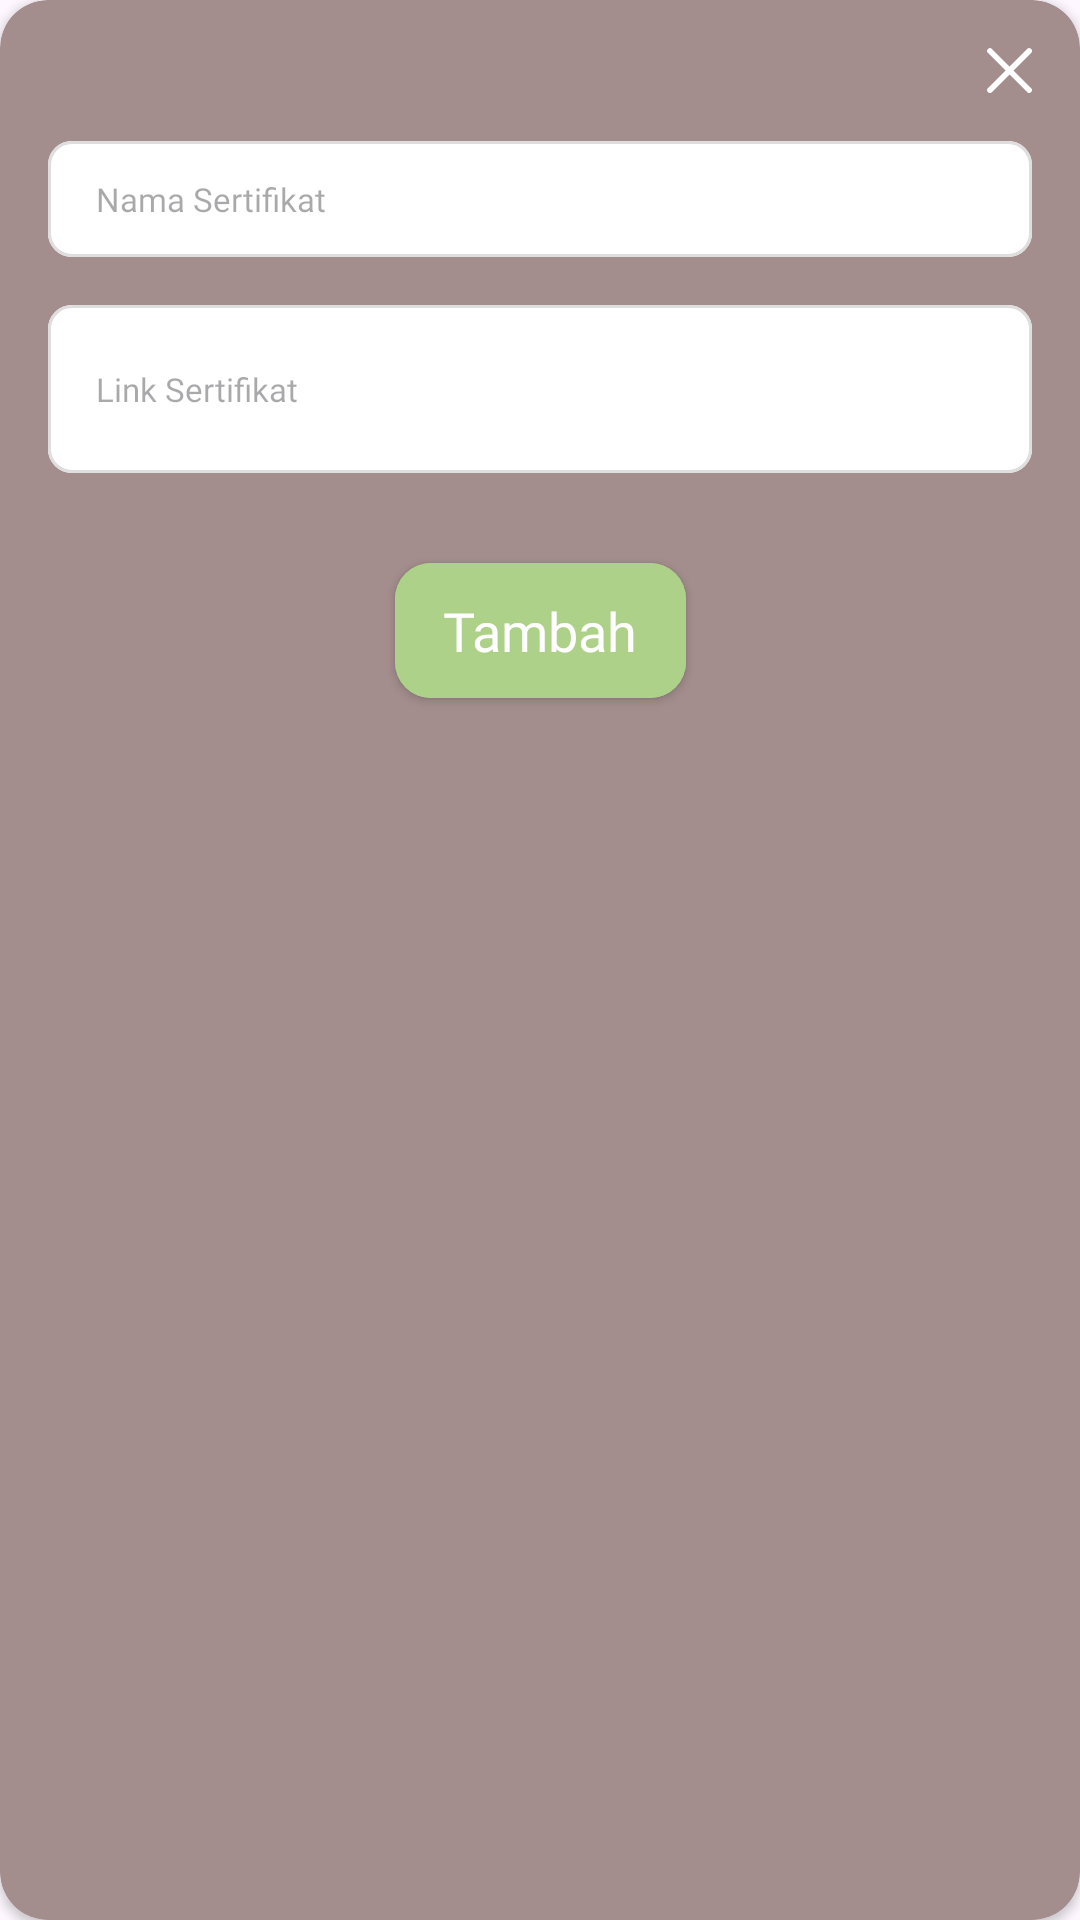

Named icons in this screenshot (1080 × 1920) and their centers, (x=x, y=y):
Icon popup close: (x=1009, y=70)
